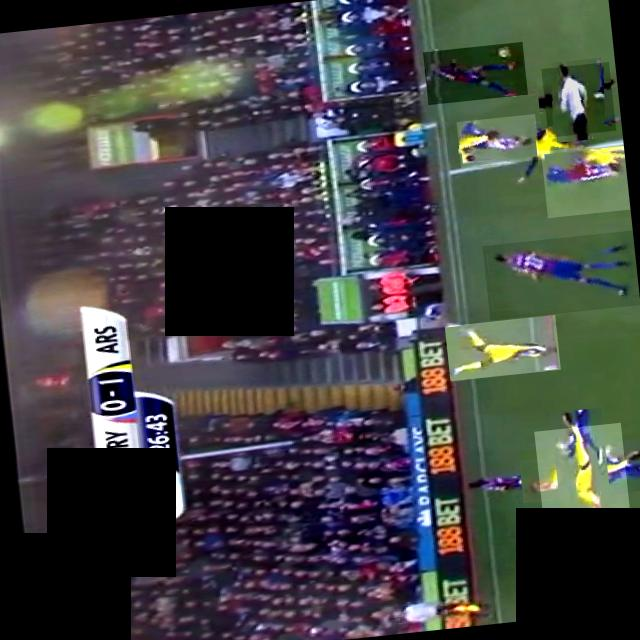referee: (540, 60, 616, 136)
soccer-player: (482, 229, 640, 319), (534, 421, 630, 518), (444, 314, 560, 379), (422, 41, 528, 104), (540, 142, 630, 216), (456, 112, 539, 166)
